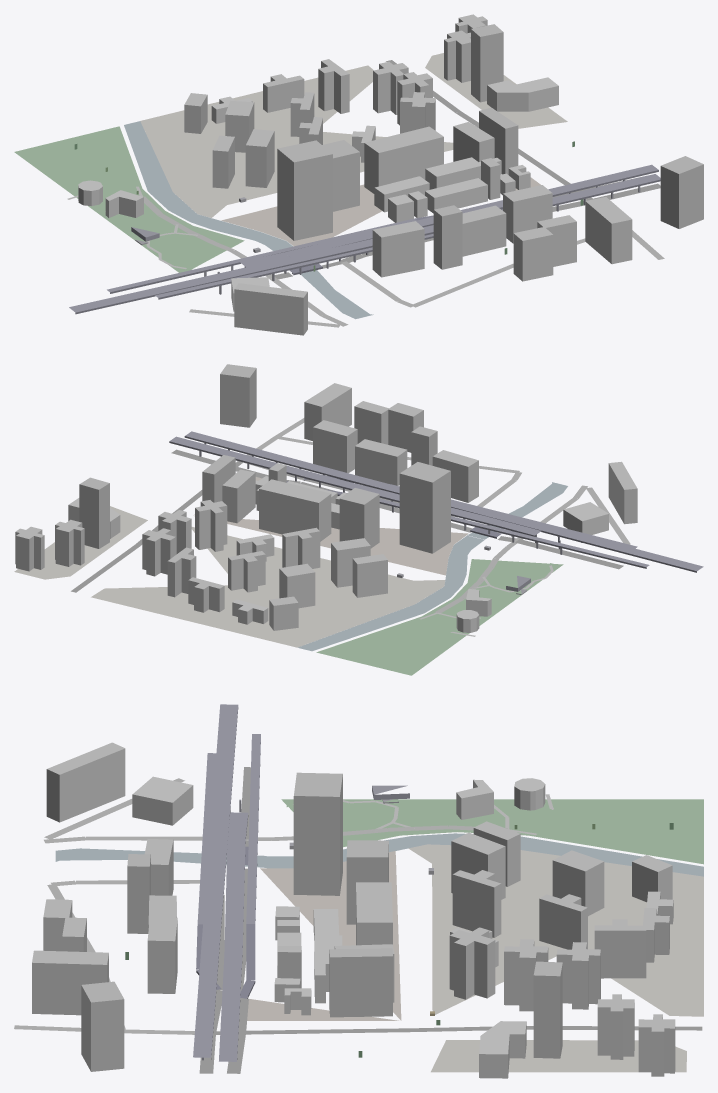
3 renders of one model, top to bottom at view 1: azimuth 30°, elevation 25°; view 2: azimuth 150°, elevation 25°; view 3: azimuth 270°, elevation 25°, orthographic. The views are drawn at different scales.
Size of the model in its own units: 659 by 85.76 by 532.
